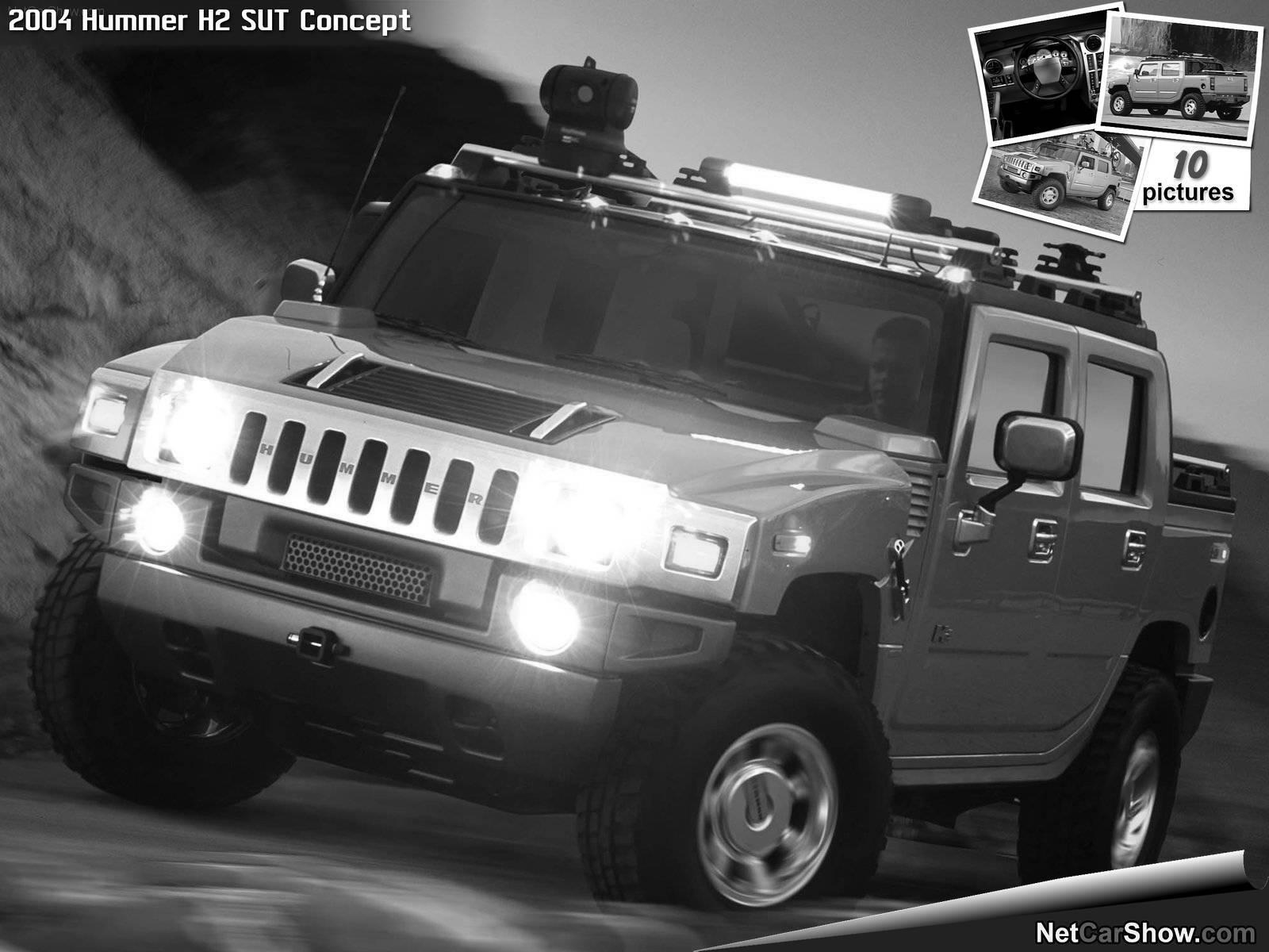car: (25, 58, 1236, 912)
